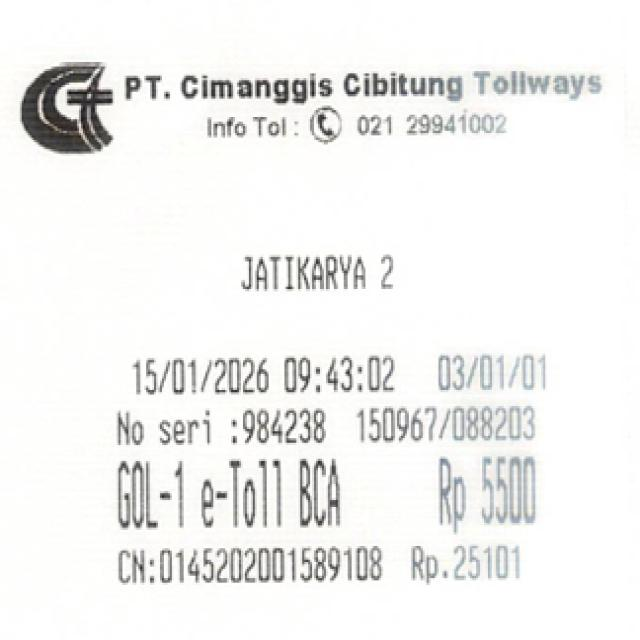date: (127, 353, 401, 398)
store: (114, 70, 603, 108)
total: (430, 456, 539, 530)
